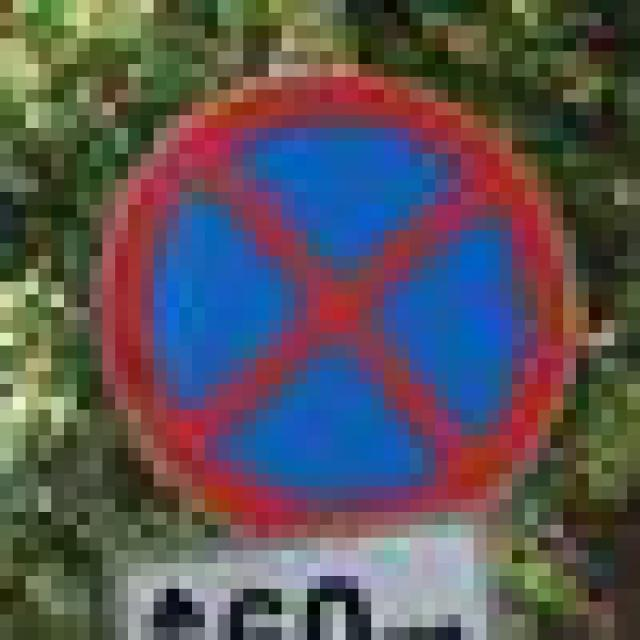no stopping or standing: (101, 69, 569, 529)
